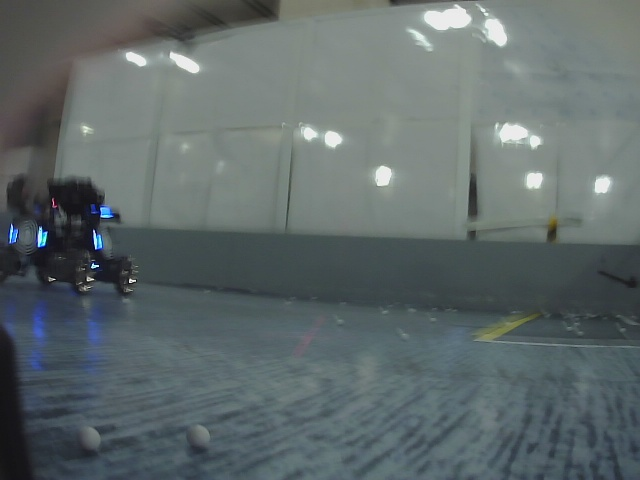lamp: (36, 225, 47, 246), (7, 225, 18, 246)
pair: (10, 226, 46, 246)
